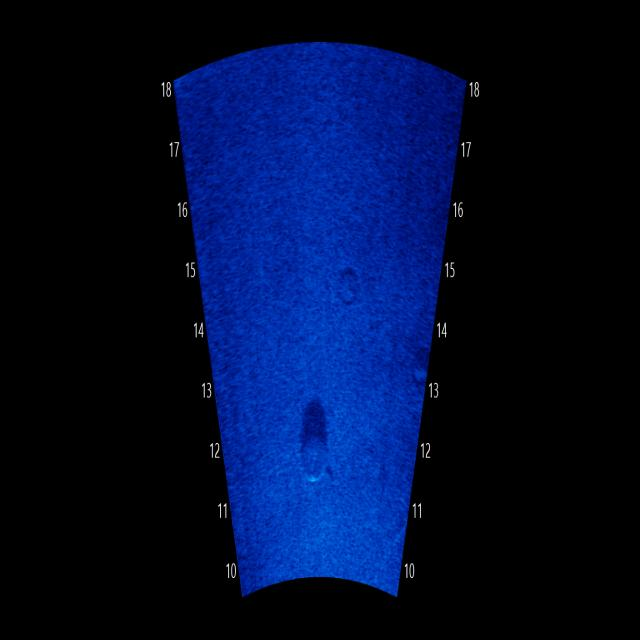circle: (298, 420, 342, 496)
